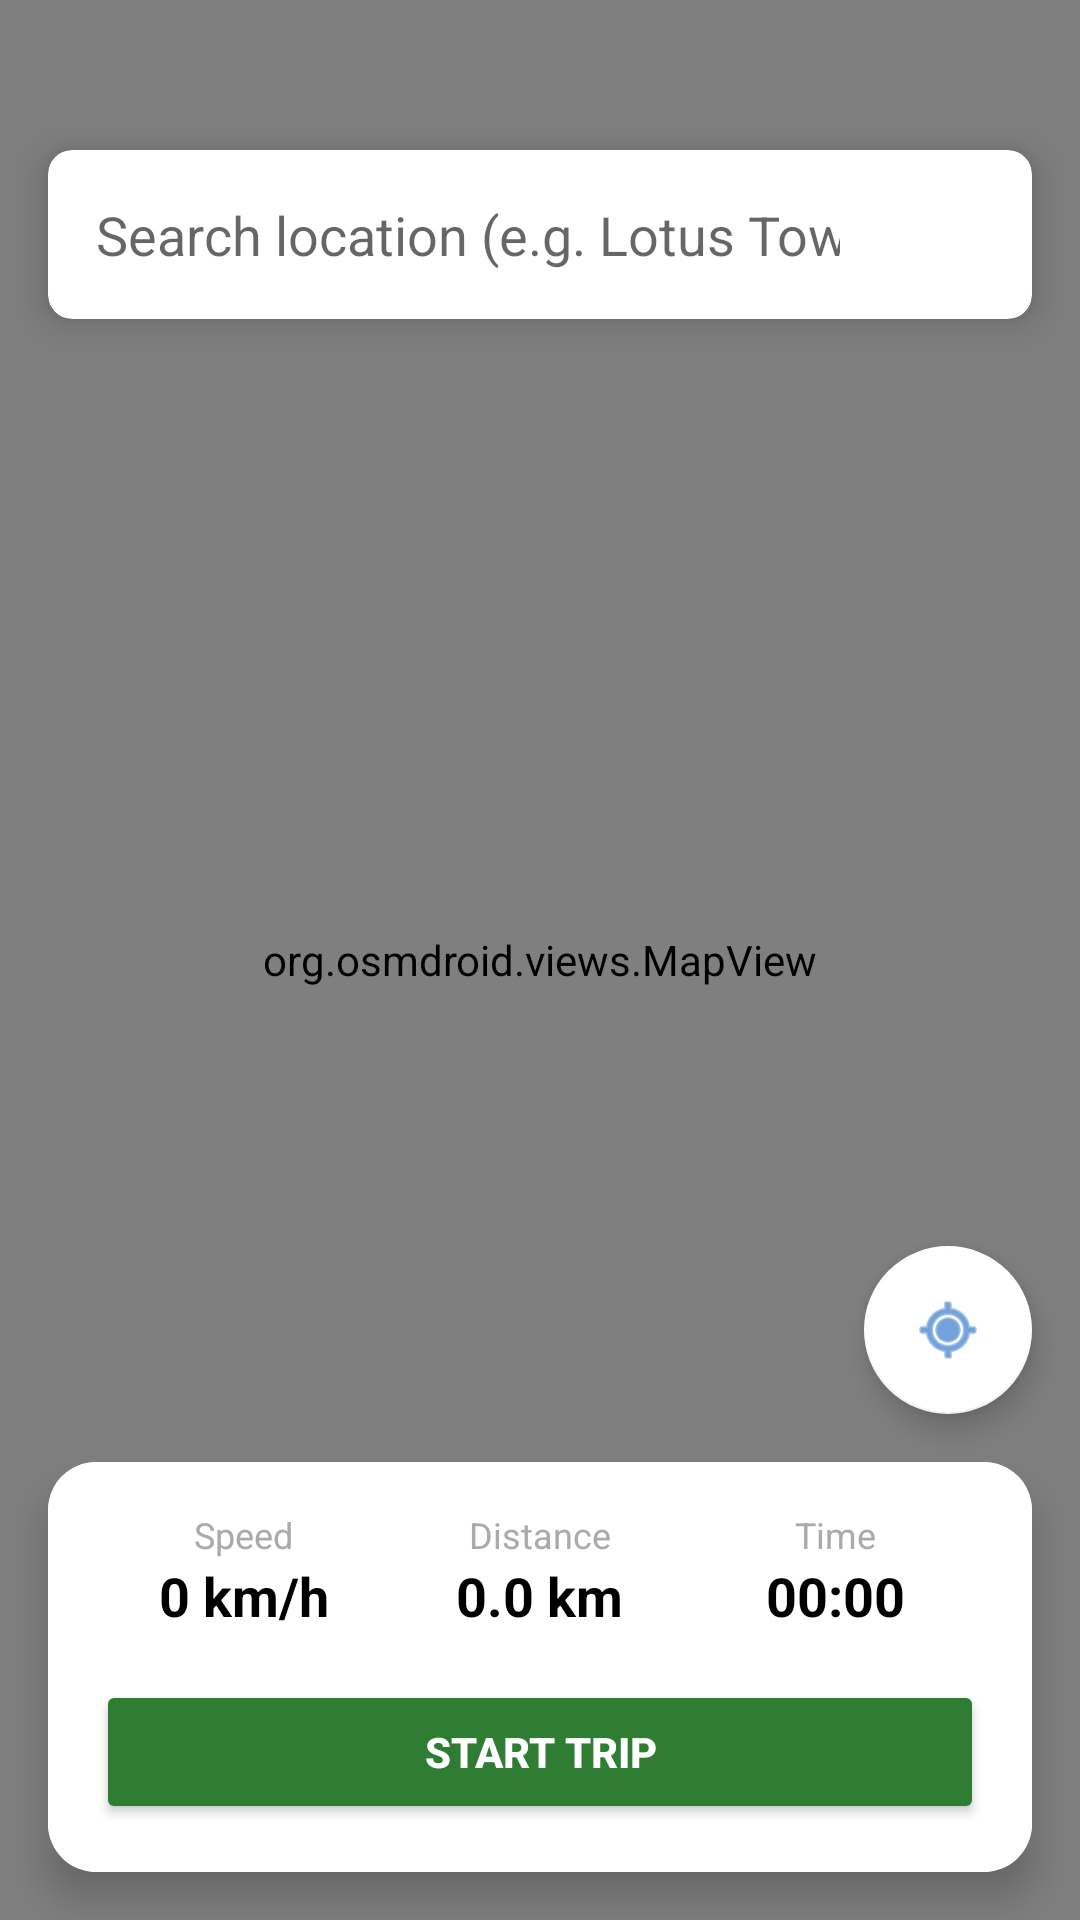

Where to tap for icons on this 1080px x 1920px app screen, as point (x, y):
Recenter Map: point (948, 1330)
